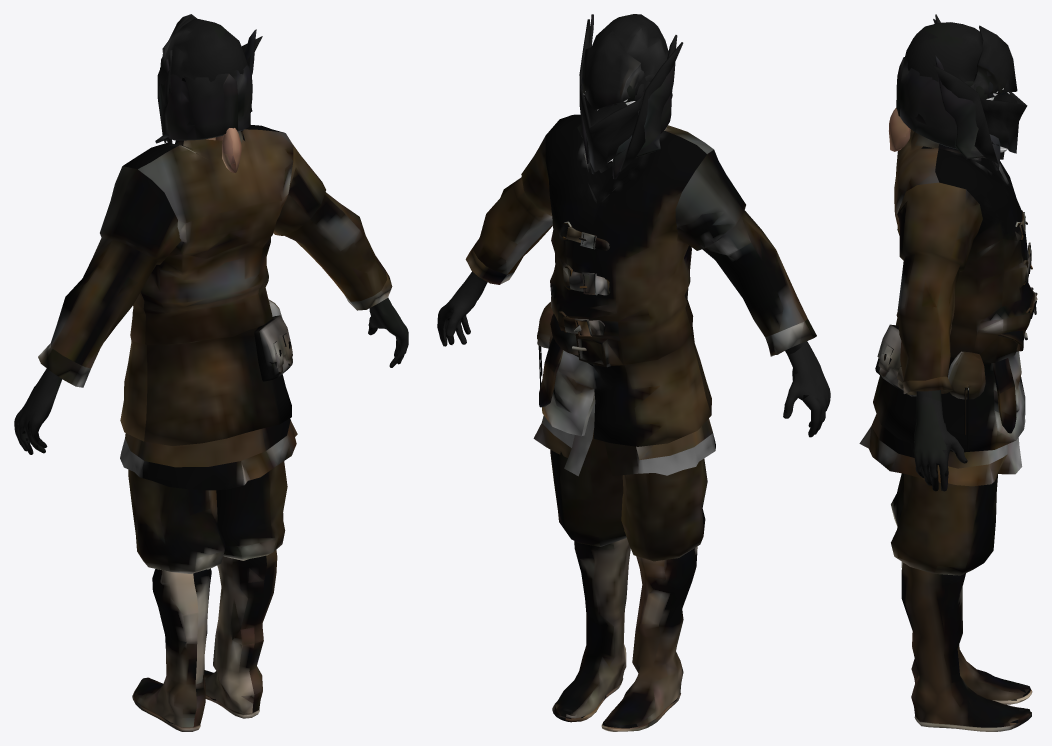
3 views of the same model, side by side, from view 1: azimuth 30°, elevation 25°; view 2: azimuth 150°, elevation 25°; view 3: azimuth 270°, elevation 25° (orthographic).
Parts seen in each view (by area): view 1: mesh_0; view 2: mesh_0; view 3: mesh_0.
Boxes of the visible parts, left/top/right/bottom form: mesh_0: left=14, top=14, right=408, bottom=731; mesh_0: left=437, top=14, right=830, bottom=731; mesh_0: left=859, top=14, right=1037, bottom=731.
Size of the model in its own units: 41.41 by 70.59 by 16.55.
Materials: 1 (1 with a texture image).
